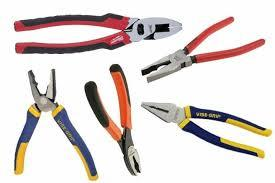pliers: (139, 15, 265, 82), (140, 100, 271, 158), (12, 12, 182, 53), (83, 62, 143, 176)
